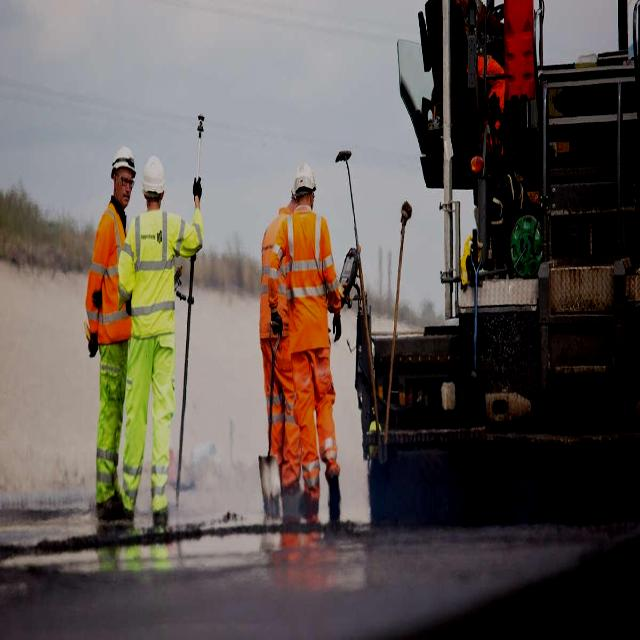helmet: (106, 141, 136, 193), (288, 152, 318, 202), (138, 158, 168, 202)
vest: (280, 202, 336, 348), (124, 208, 184, 342), (84, 201, 137, 351)
